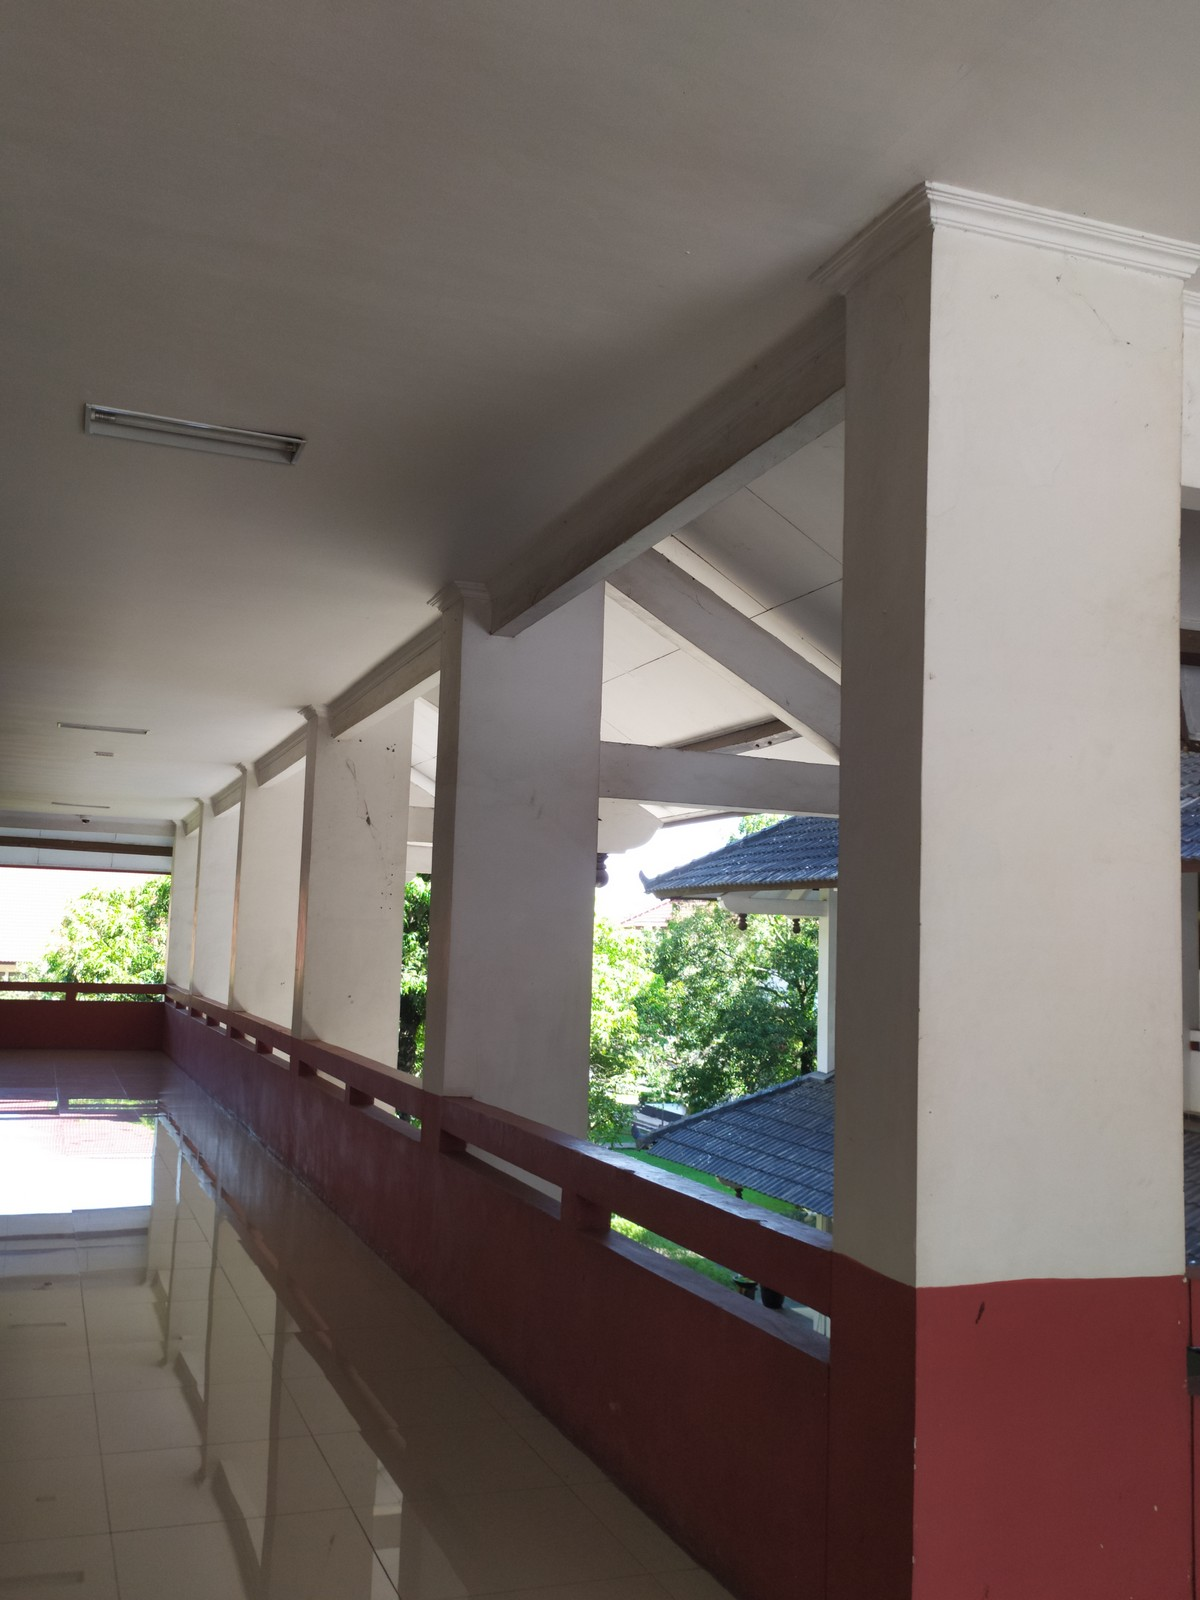concrete beam: (586, 734, 841, 821)
concrete column: (823, 236, 1200, 1506), (424, 593, 615, 1167), (289, 721, 415, 1086)
